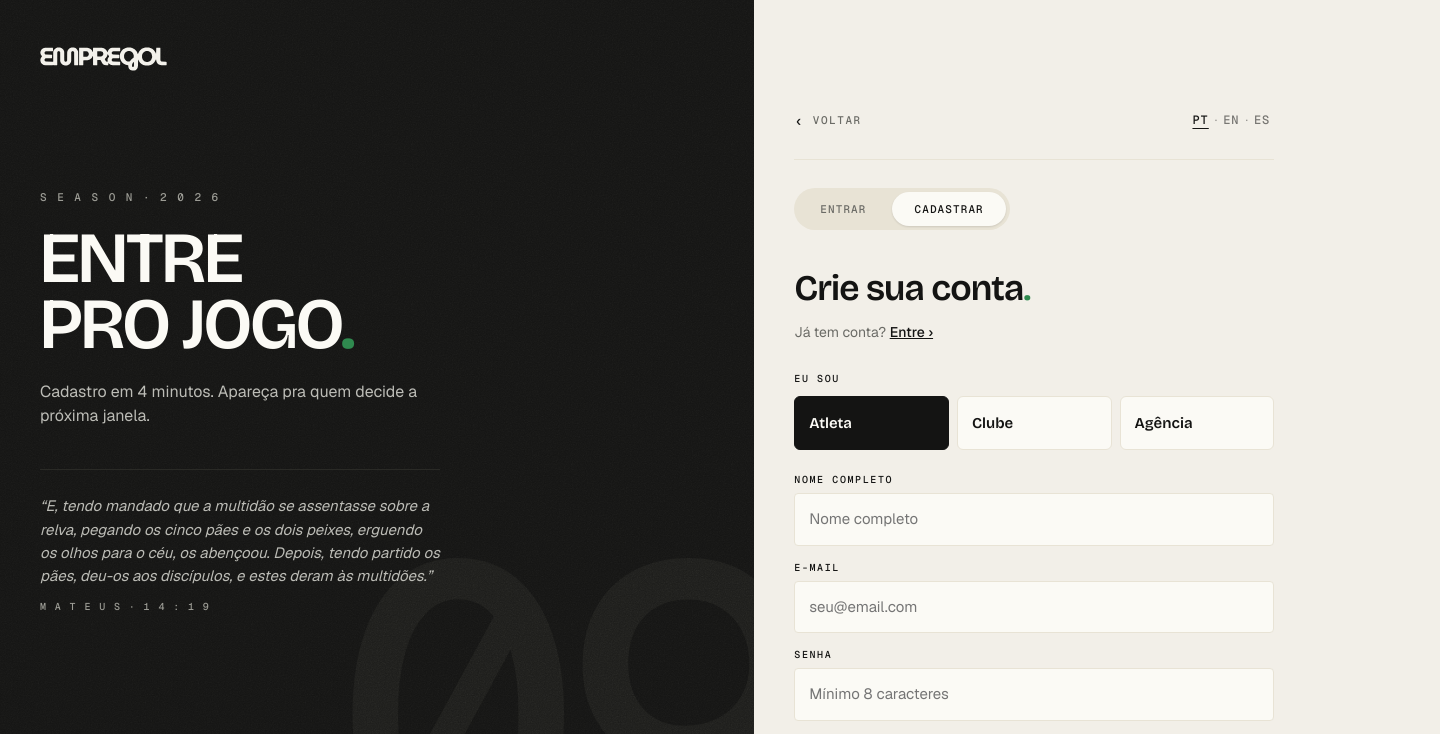
Test case: AuthPage › troca para o formulário de clube, que pede CNPJ em vez de CPF
Click the button "Clube" at {"x": 1034, "y": 423}, box [957, 396, 1112, 450]
(page scrolled)
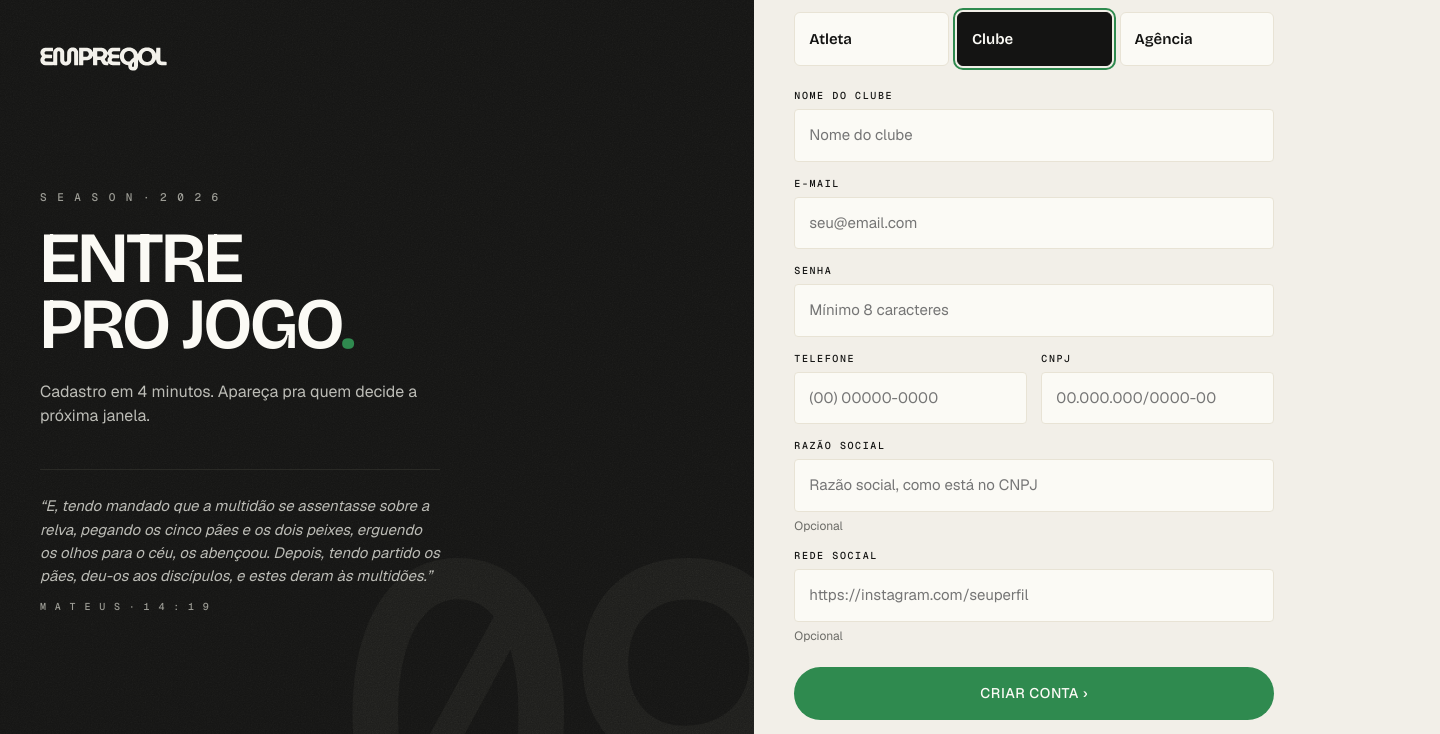
Expected: the field labelled "Nome do clube" is shown, [794, 109, 1274, 162]
Expected: the field labelled "CNPJ" is shown, [1041, 372, 1274, 424]
